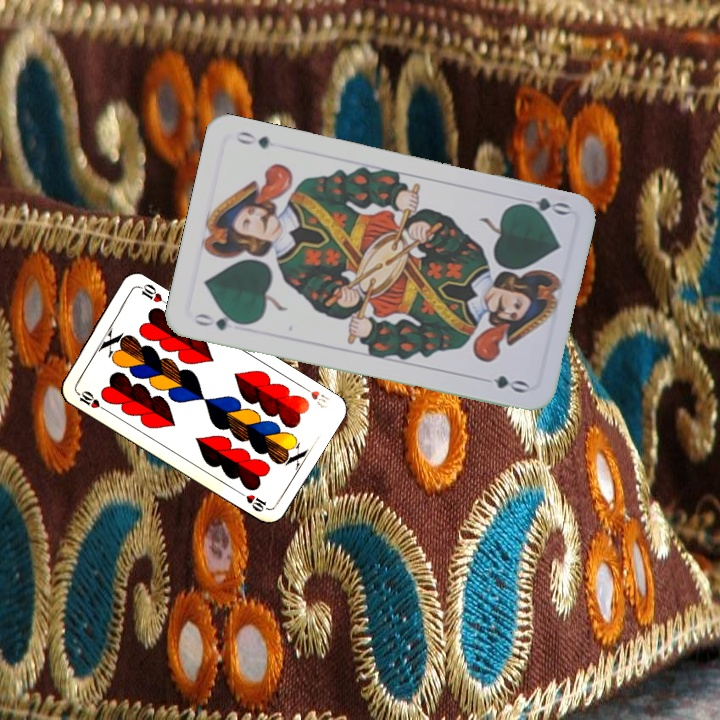GO: (512, 193, 572, 220), (190, 309, 248, 333)
H10: (297, 381, 334, 411), (72, 386, 108, 413)
